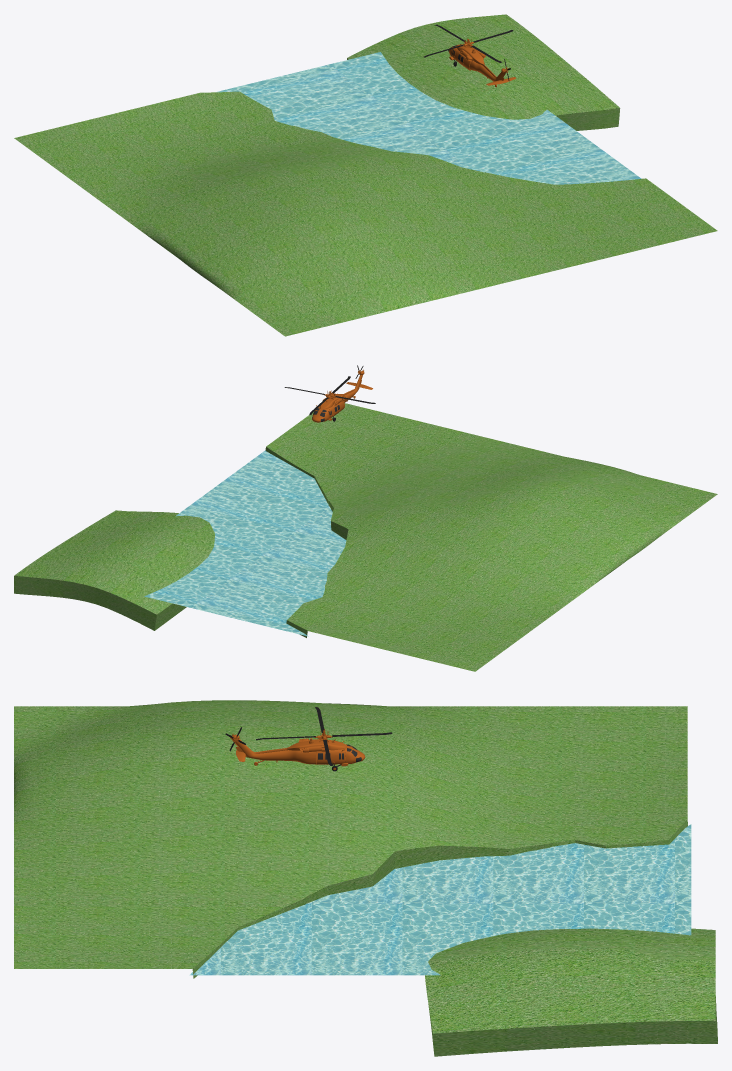
The model's file is H_hlecopter.FBX.
The picture shows the model from 3 angles, top to bottom: view 1: azimuth 30°, elevation 25°; view 2: azimuth 150°, elevation 25°; view 3: azimuth 270°, elevation 25°; orthographic projection. The views are drawn at different scales.
Visible parts, largest first — view 1: Plane001, Plane002, Object001, mainhull; view 2: Plane001, Plane002, Object001, mainhull; view 3: Plane001, Plane002, Object001, mainhull.
Boxes of the visible parts, x1,y1,x2,y2 form: Plane001: [14, 91, 717, 336]; Plane002: [216, 52, 641, 184]; Object001: [347, 14, 620, 130]; mainhull: [423, 24, 516, 87]; Plane001: [265, 403, 717, 671]; Plane002: [144, 450, 346, 636]; Object001: [14, 510, 214, 630]; mainhull: [284, 365, 375, 422]; Plane001: [14, 700, 687, 978]; Plane002: [189, 824, 691, 975]; Object001: [425, 928, 717, 1056]; mainhull: [225, 707, 392, 771].
Size of the model in its own units: 24333 by 7882 by 23565.
Materials: 5 (2 with a texture image).
